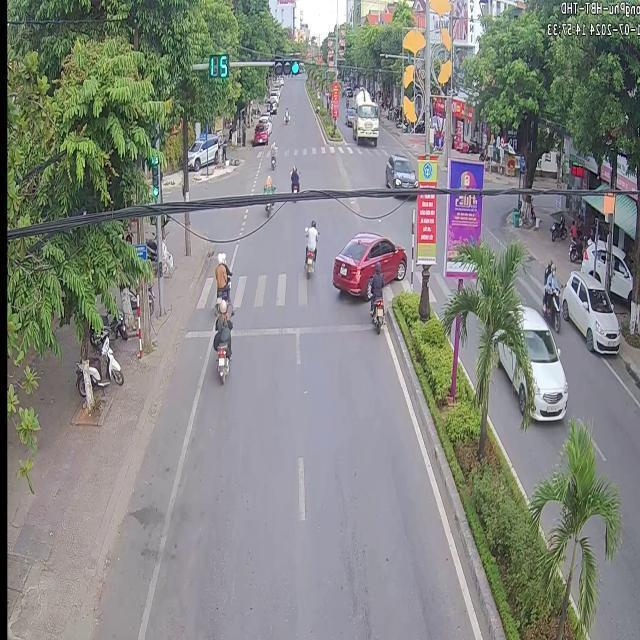car: (519, 305, 567, 418), (330, 231, 406, 298), (497, 340, 524, 411), (387, 154, 413, 187)
green_light: (209, 53, 227, 76), (274, 58, 299, 74), (151, 154, 158, 197)
motobike: (212, 298, 230, 382), (367, 262, 383, 331), (213, 251, 229, 302), (303, 218, 317, 276), (289, 165, 298, 191), (262, 174, 273, 194), (263, 200, 271, 216)
stop_line: (232, 322, 369, 341)
